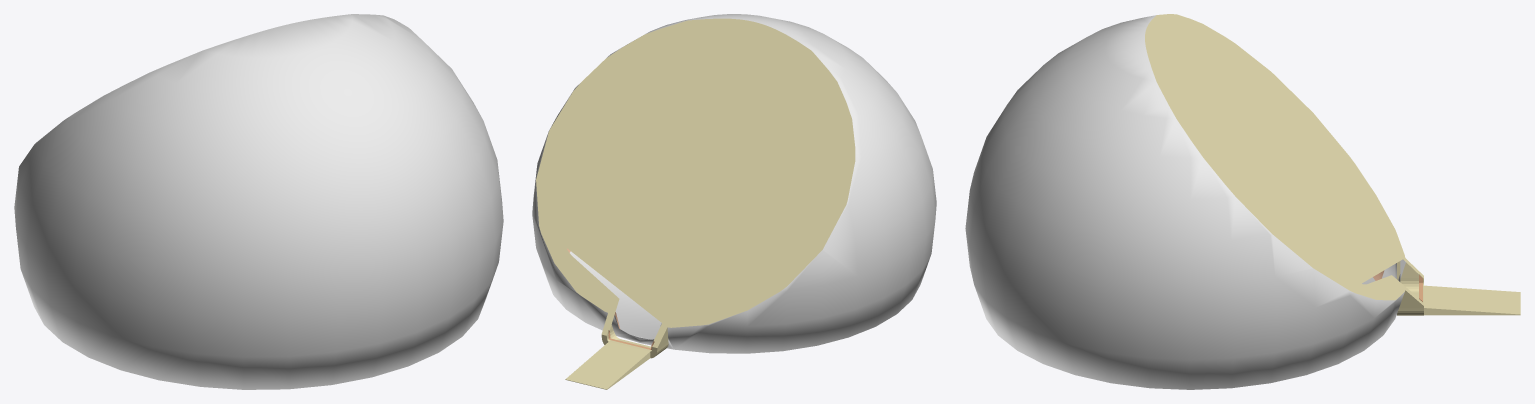
Rendered from shop.fbx.
The picture shows the model from 3 angles, left to right: view 1: azimuth 30°, elevation 25°; view 2: azimuth 150°, elevation 25°; view 3: azimuth 270°, elevation 25°; orthographic projection. The views are drawn at different scales.
Visible parts, largest first — view 1: Cube.003; view 2: Cube.003; view 3: Cube.003.
Boxes of the visible parts, box(x1,y1,x2,y2) form: Cube.003: box(14, 14, 503, 389); Cube.003: box(532, 14, 936, 389); Cube.003: box(965, 14, 1520, 389).
Bounding box in the file's own units: 654 × 346 × 531.
